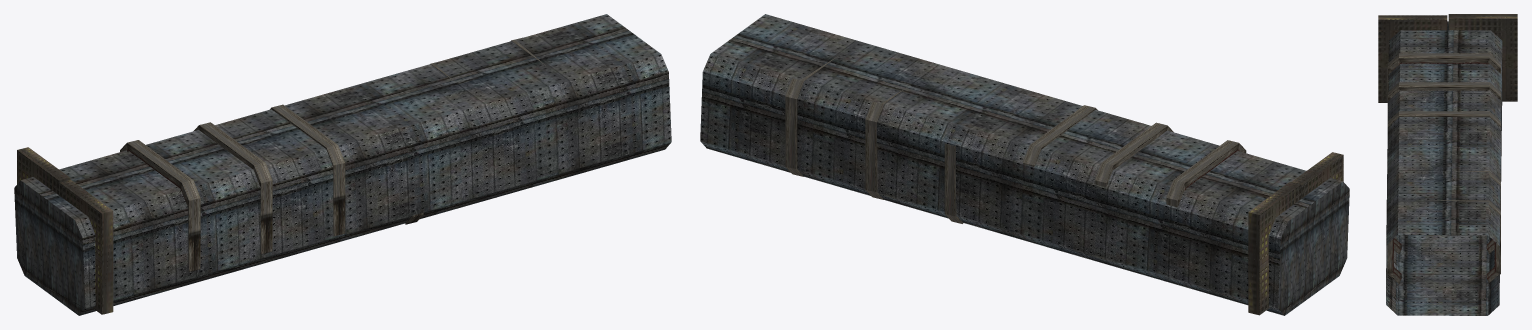
The model's file is room1.fbx.
3 renders of one model, left to right at view 1: azimuth 30°, elevation 25°; view 2: azimuth 150°, elevation 25°; view 3: azimuth 270°, elevation 25°, orthographic. The views are drawn at different scales.
Visible parts, largest first — view 1: pasted__pCube1, pasted__pasted__pasted__pCube1 (×3), pasted__pasted__pCube3, pasted__pCube3; view 2: pasted__pCube1, pasted__pasted__pasted__pCube1 (×5), pasted__pCube3, pasted__pasted__pCube1, pasted__pasted__pCube3; view 3: pasted__pCube1, pasted__pasted__pasted__pCube1 (×4), pasted__pCube3, pasted__pasted__pCube3, pasted__pasted__pCube1.
Boxes of the visible parts, x1,y1,x2,y2 form: pasted__pCube1: (14,14,671,315); pasted__pasted__pasted__pCube1 (×3): (120,104,345,271); pasted__pasted__pCube3: (59,180,113,314); pasted__pCube3: (17,147,70,195); pasted__pCube1: (700,14,1349,315); pasted__pasted__pasted__pCube1 (×5): (865,87,1246,223); pasted__pCube3: (1248,181,1301,315); pasted__pasted__pCube1: (785,55,838,176); pasted__pasted__pCube3: (1292,152,1343,198); pasted__pCube1: (1386,21,1502,315); pasted__pasted__pasted__pCube1 (×4): (1387,53,1500,254); pasted__pCube3: (1448,14,1517,101); pasted__pasted__pCube3: (1378,15,1447,102); pasted__pasted__pCube1: (1387,200,1500,283).
Size of the model in its own units: 59.25 by 11.69 by 14.8.
4 materials, 4 textured.
